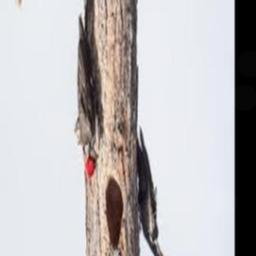Woodpecker: (77, 0, 99, 178), (136, 128, 166, 256)
